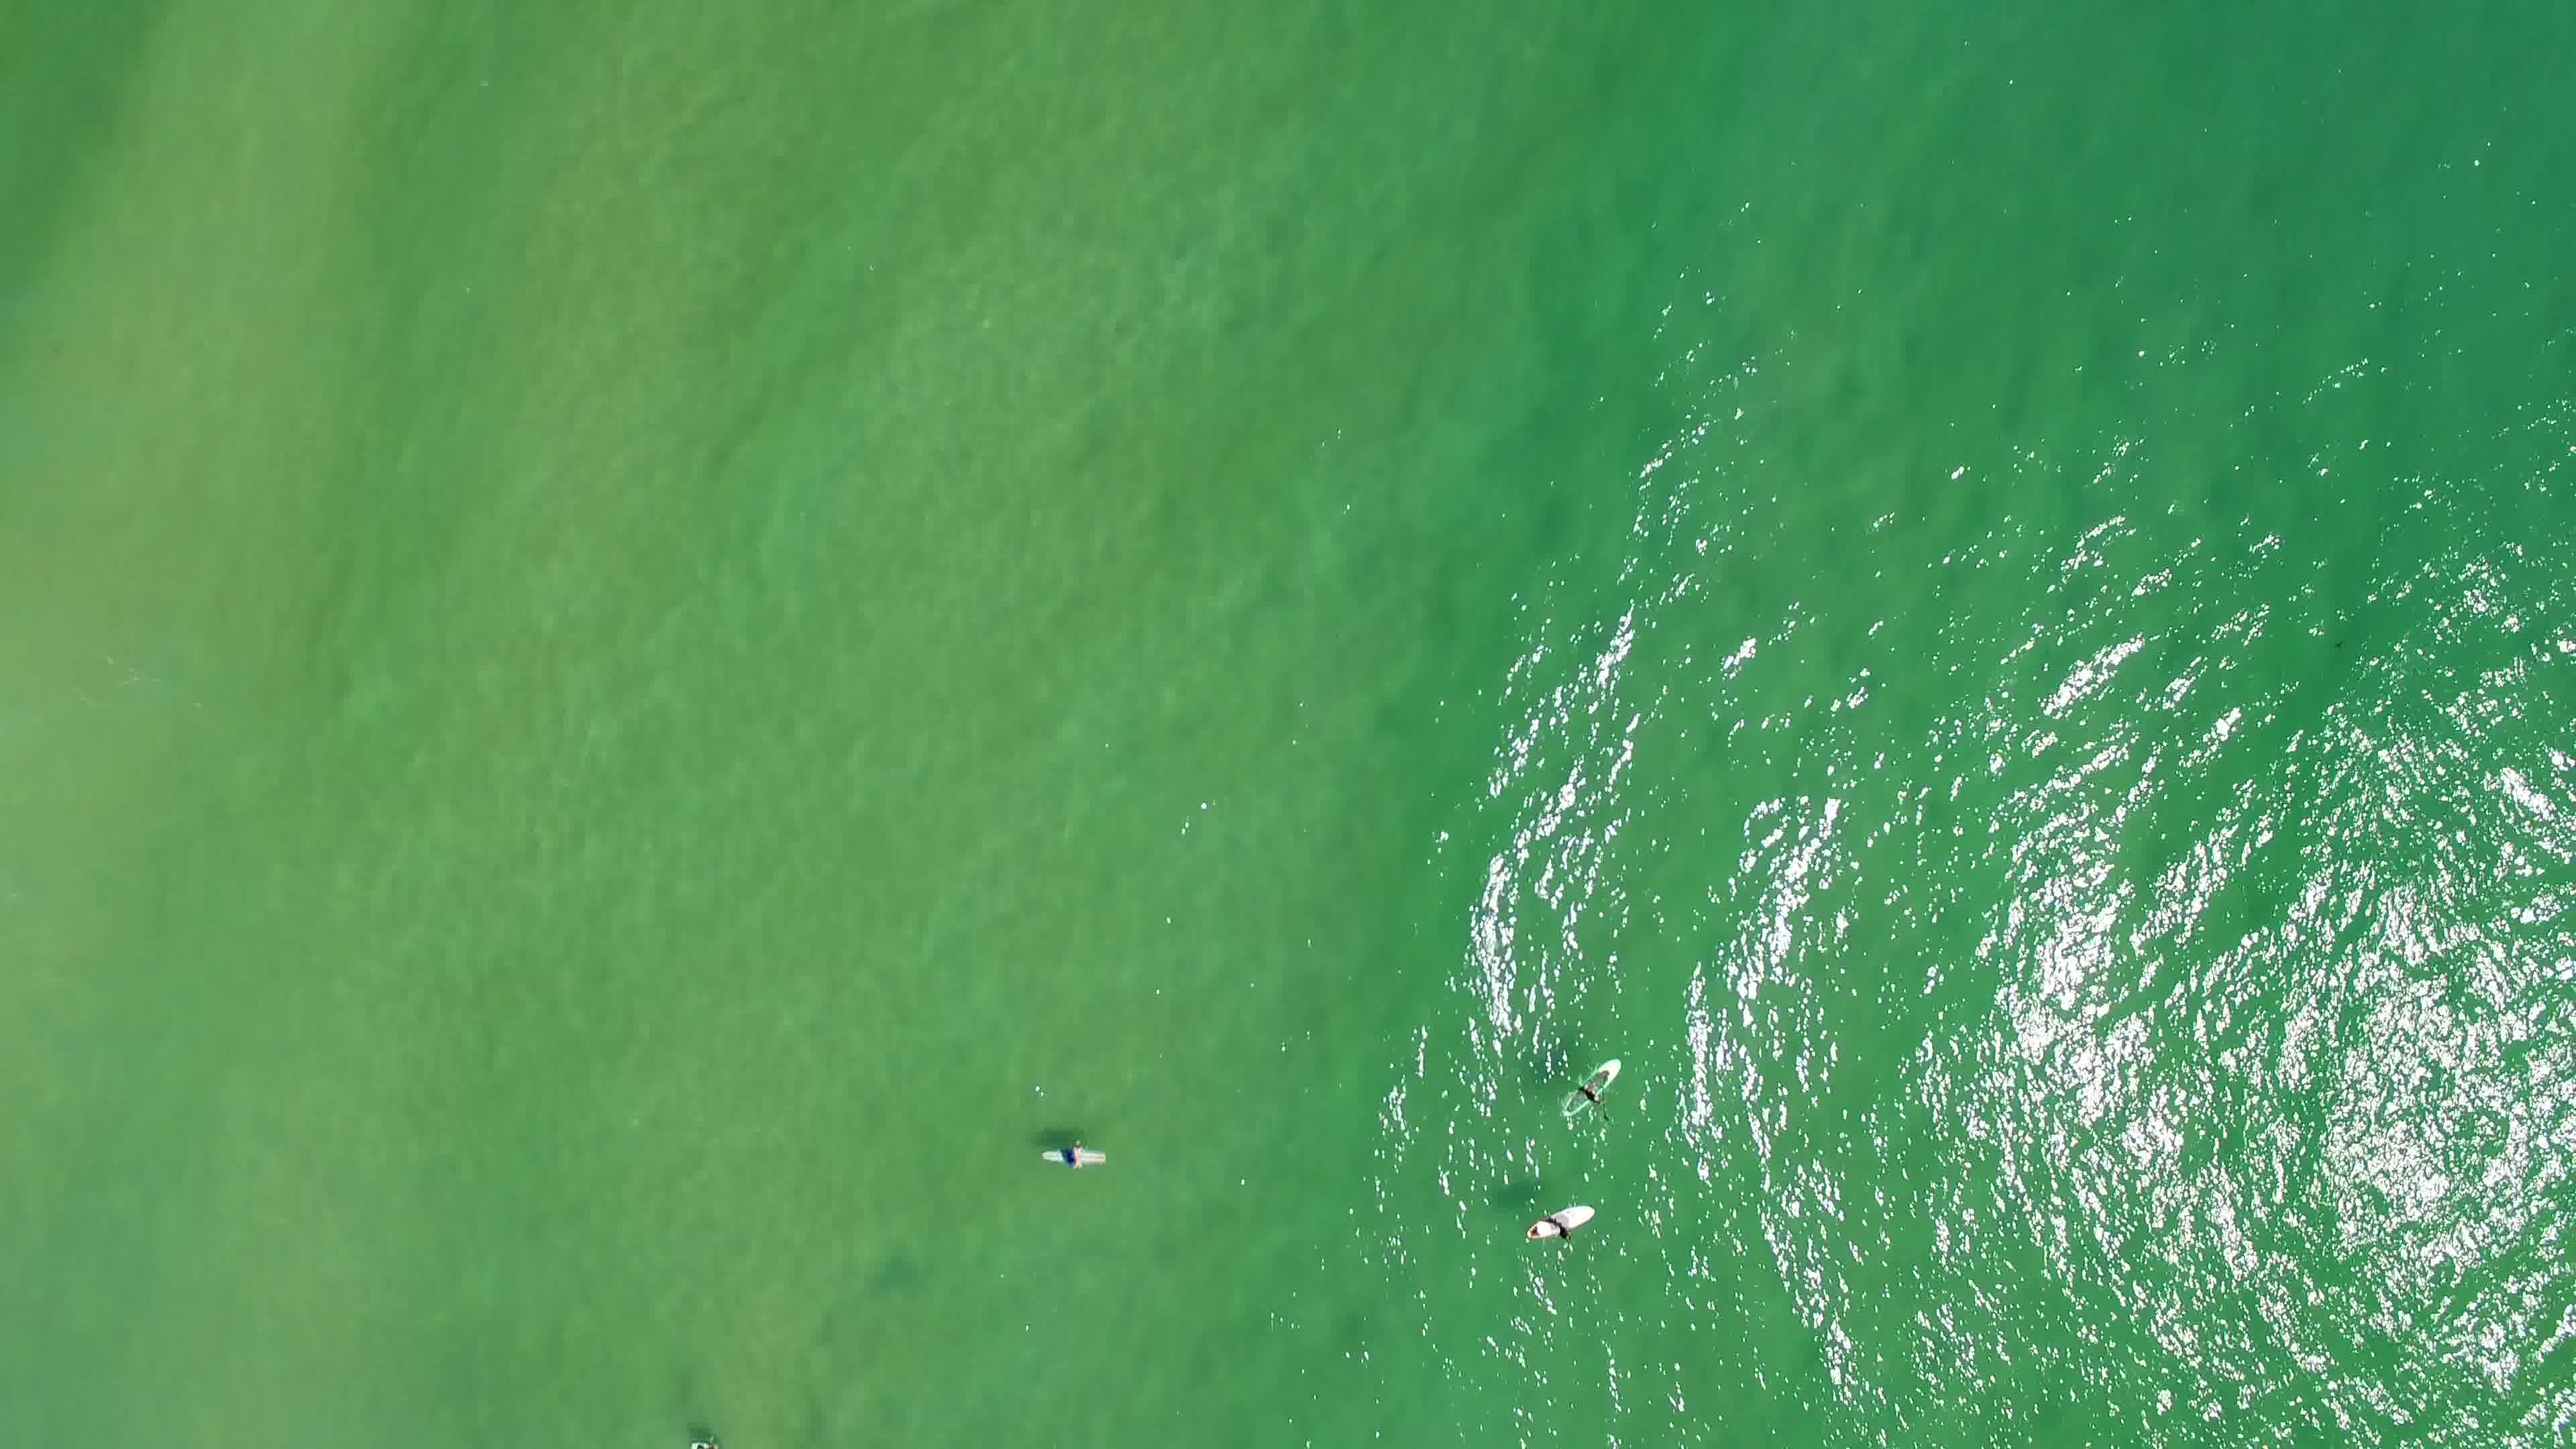surfer: (1557, 1053, 1626, 1118), (1518, 1201, 1606, 1249), (1039, 1138, 1111, 1175)
